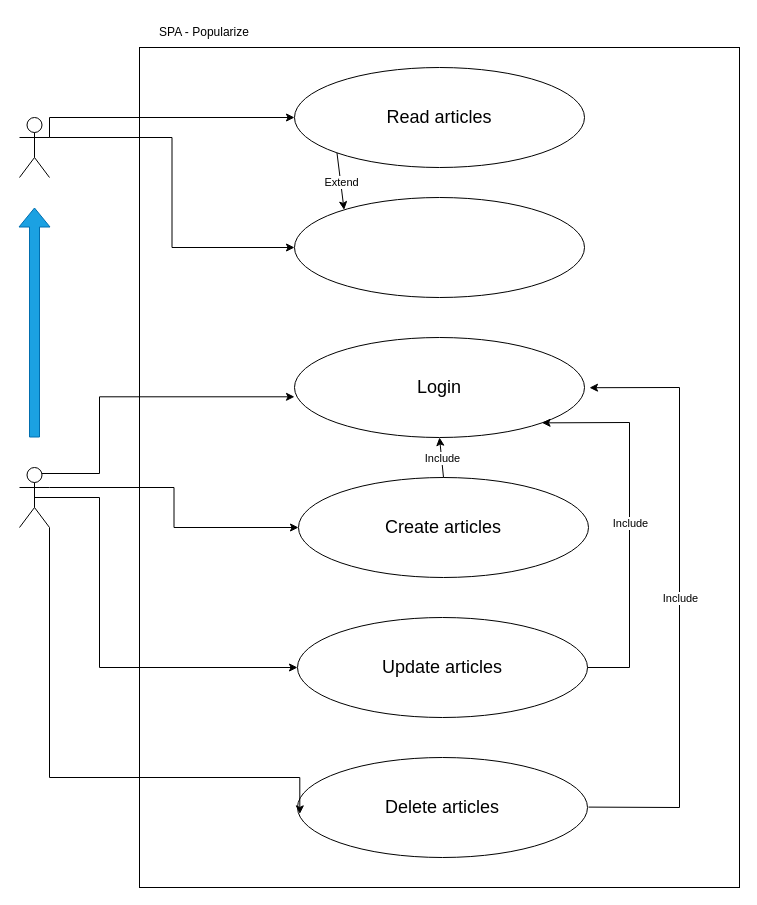
Image size: 757x905. Some labels were removed from this diagram. The centre of each missing label's shape, as x and y in pixels:
"Admin" goes at (34,497).
"Search by tag" goes at (439,247).
"User" goes at (34,147).
